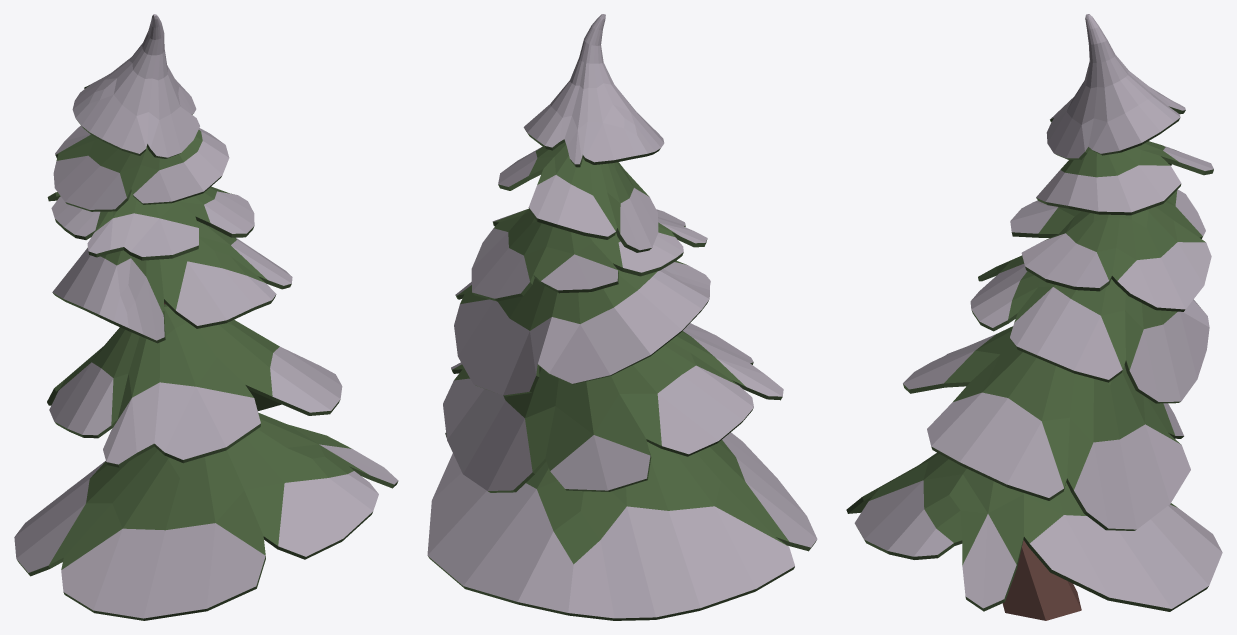
File: pine_snow3.glb
3 views of the same model, side by side, from view 1: azimuth 30°, elevation 25°; view 2: azimuth 150°, elevation 25°; view 3: azimuth 270°, elevation 25° (orthographic). The views are drawn at different scales.
Parts seen in each view (by area): view 1: PineTree_Snow_3; view 2: PineTree_Snow_3; view 3: PineTree_Snow_3.
Boxes of the visible parts, box(x1,y1,x2,y2) form: PineTree_Snow_3: box(14, 14, 398, 620); PineTree_Snow_3: box(427, 14, 817, 620); PineTree_Snow_3: box(846, 14, 1222, 620).
Bounding box in the file's own units: 2.16 × 3.3 × 1.95.
